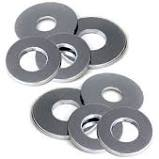No thread: (77, 20, 109, 55), (48, 92, 79, 126), (19, 44, 50, 71), (108, 117, 140, 143), (50, 44, 78, 68), (28, 12, 58, 34), (98, 81, 124, 105), (82, 114, 102, 141)
